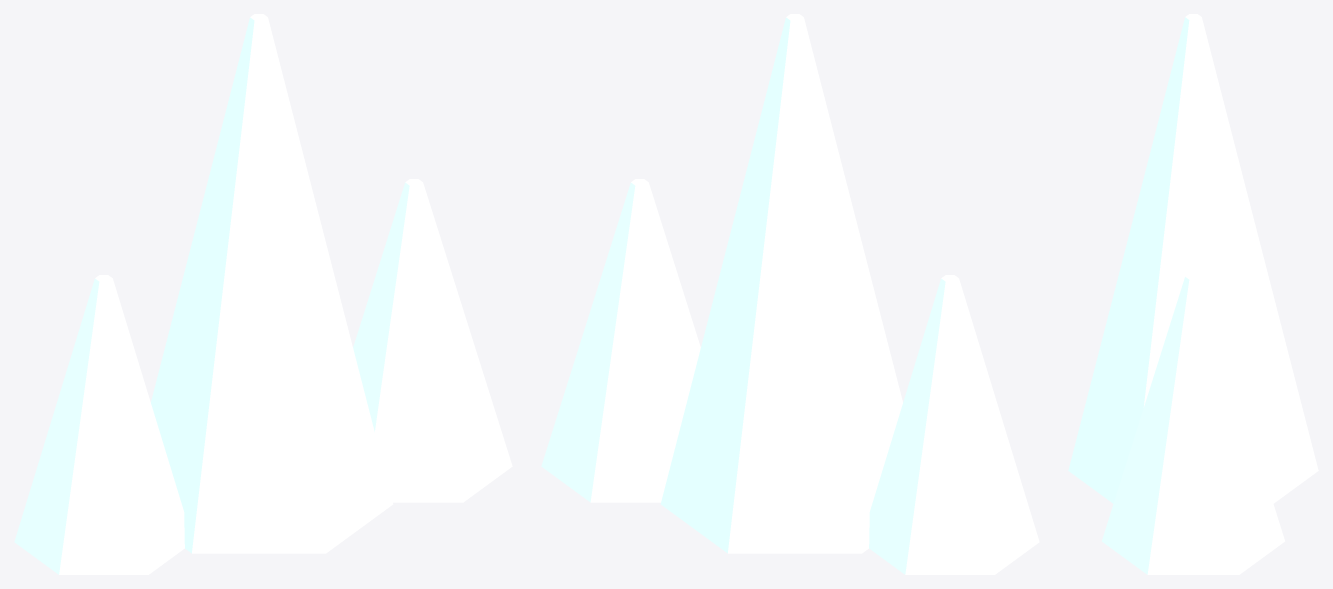
File: SM_IceCluster.fbx
3 renders of one model, left to right at view 1: azimuth 30°, elevation 25°; view 2: azimuth 150°, elevation 25°; view 3: azimuth 270°, elevation 25°, orthographic. The views are drawn at different scales.
Visible parts, largest first — view 1: SM_IceCluster; view 2: SM_IceCluster; view 3: SM_IceCluster.
Boxes of the visible parts, left/top/right/bottom form: SM_IceCluster: left=14, top=14, right=512, bottom=574; SM_IceCluster: left=541, top=14, right=1039, bottom=574; SM_IceCluster: left=1068, top=14, right=1318, bottom=574.
Size of the model in its own units: 116 by 60 by 120.
